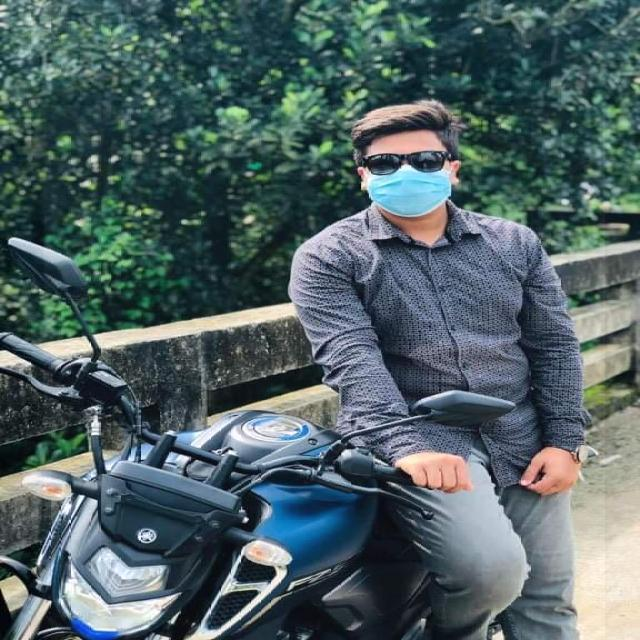Bike: (44, 105, 605, 640)
